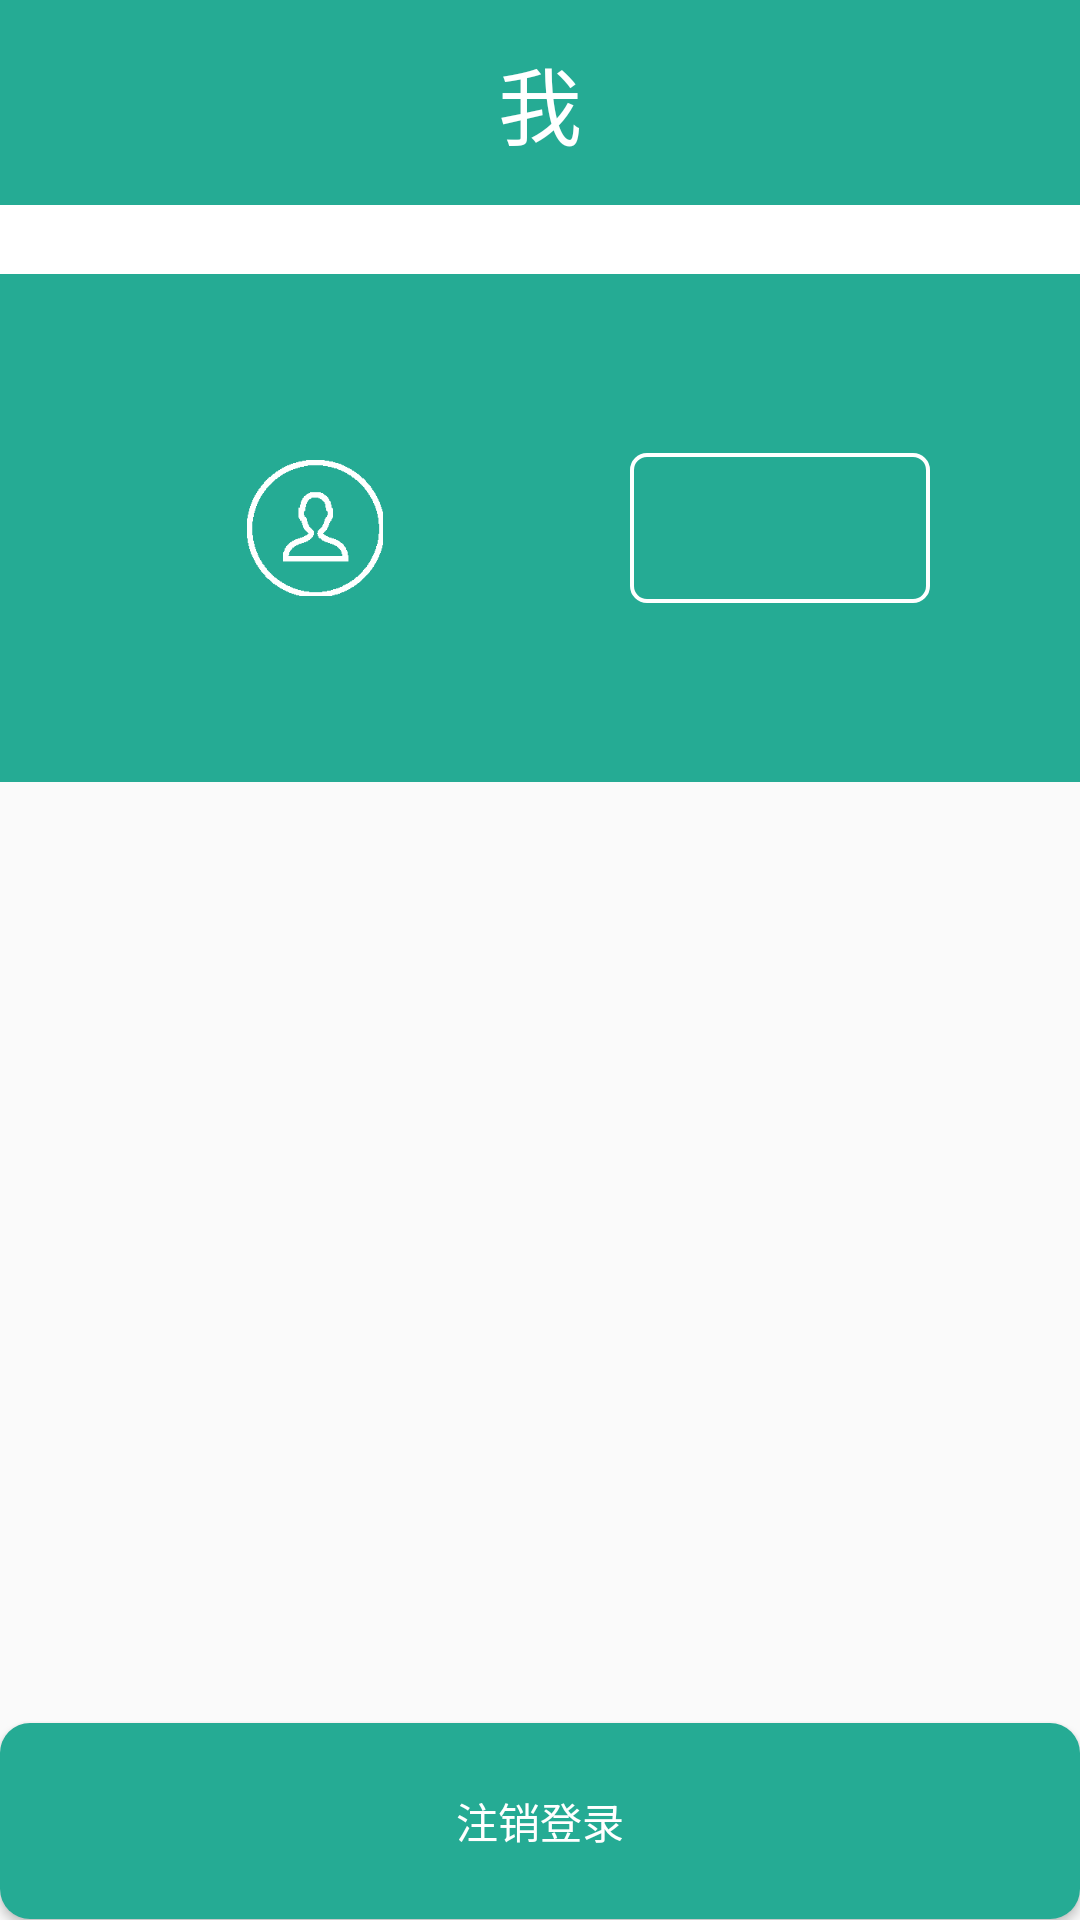

Named icons in this screenshot (1080 × 1920) and their bounding boxes, (x1, y1, x2, y2):
personno: (247, 460, 383, 596)
